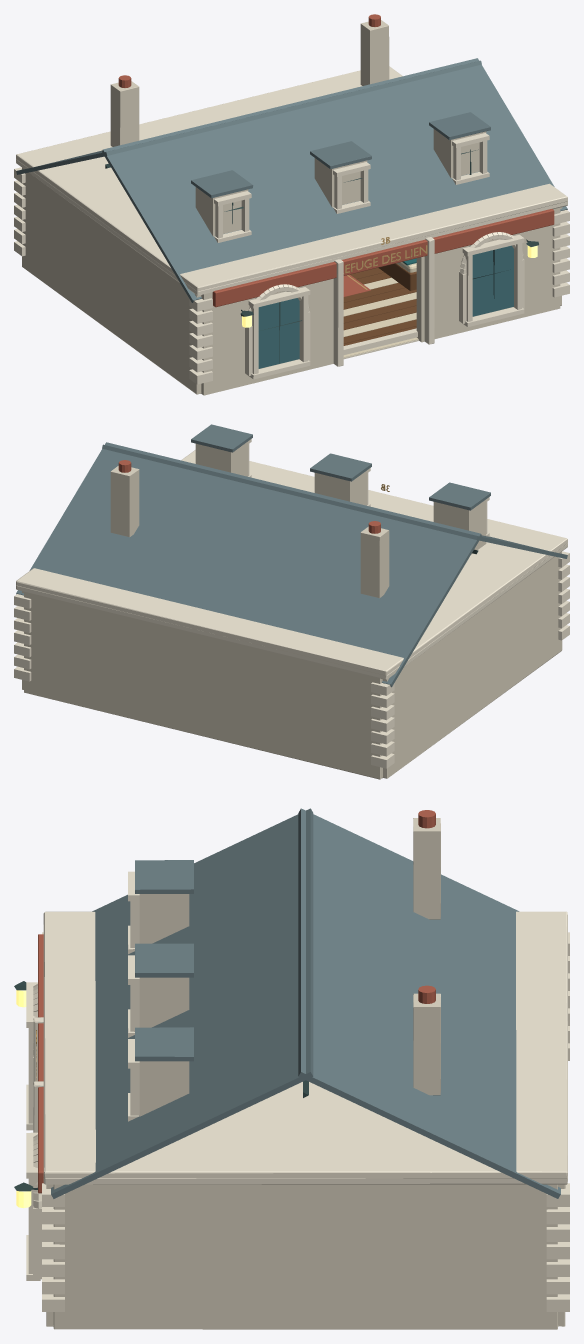
Rendered from Refuge-lod.glb.
3 renders of one model, top to bottom at view 1: azimuth 30°, elevation 25°; view 2: azimuth 150°, elevation 25°; view 3: azimuth 270°, elevation 25°, orthographic. The views are drawn at different scales.
Parts seen in each view (by area): view 1: Refuge_Zinc slate.001, Refuge_Carved ivory.001, Refuge_Paris limestone.001, Refuge_Terracotta.001, Refuge_Window blue.001, Refuge_Walnut.001, Refuge_Canvas ivory.001, Refuge_Forged midnight.001, Refuge_Brushed champagne.001; view 2: Refuge_Paris limestone.001, Refuge_Zinc slate.001, Refuge_Carved ivory.001; view 3: Refuge_Zinc slate.001, Refuge_Paris limestone.001, Refuge_Carved ivory.001, Refuge_Terracotta.001.
Boxes of the visible parts, <box> form: Refuge_Zinc slate.001: <box>16,58,567,302</box>; Refuge_Carved ivory.001: <box>14,66,569,393</box>; Refuge_Paris limestone.001: <box>22,20,562,395</box>; Refuge_Terracotta.001: <box>118,14,554,307</box>; Refuge_Window blue.001: <box>258,245,513,368</box>; Refuge_Walnut.001: <box>343,263,416,345</box>; Refuge_Canvas ivory.001: <box>343,262,418,357</box>; Refuge_Forged midnight.001: <box>105,149,538,362</box>; Refuge_Brushed champagne.001: <box>343,237,427,289</box>; Refuge_Paris limestone.001: <box>22,441,562,779</box>; Refuge_Zinc slate.001: <box>16,424,567,687</box>; Refuge_Carved ivory.001: <box>14,439,569,778</box>; Refuge_Zinc slate.001: <box>51,808,560,1198</box>; Refuge_Paris limestone.001: <box>46,818,565,1329</box>; Refuge_Carved ivory.001: <box>26,871,569,1326</box>; Refuge_Terracotta.001: <box>38,810,435,1193</box>.
Size of the model in its own units: 21 by 11.15 by 18.72.
